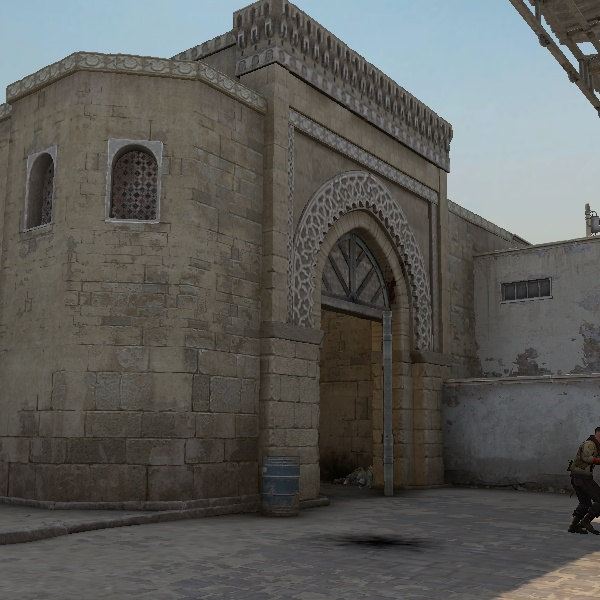t_body: (555, 412, 600, 538)
